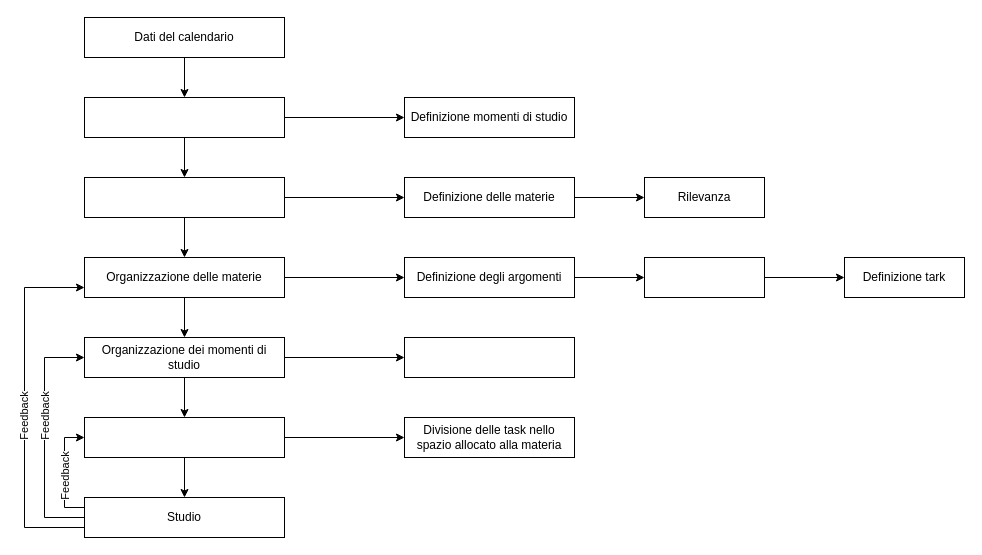
Image size: 982x555. Some labels were removed from this diagram. Here are the shapes that lost their labels. From the top down, the centre of each, then its label:
pixel 184 117: Organizzazione generale
pixel 184 197: Organizzazione dello studio
pixel 704 277: Definizione sotto argomenti
pixel 489 357: Divisone delle materie nei momenti di studio
pixel 184 437: Organizzazione degli argomenti
